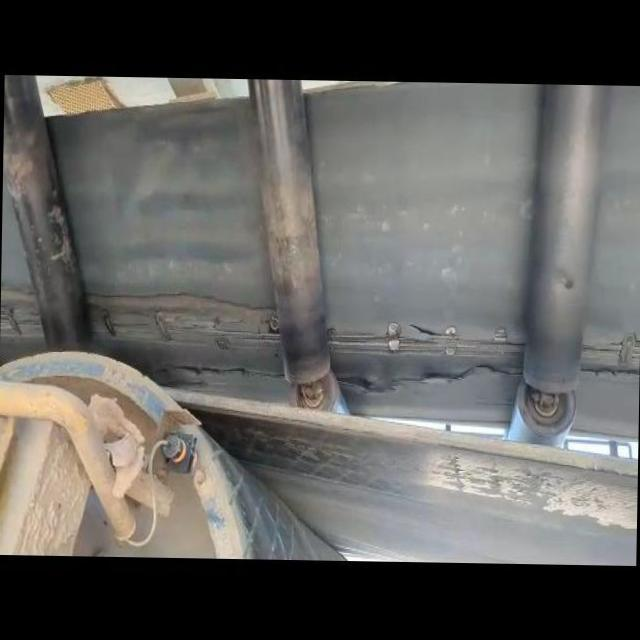Tear: (82, 283, 284, 358), (322, 315, 532, 359), (324, 358, 520, 399), (0, 288, 51, 346), (583, 332, 640, 380), (404, 310, 461, 342)
